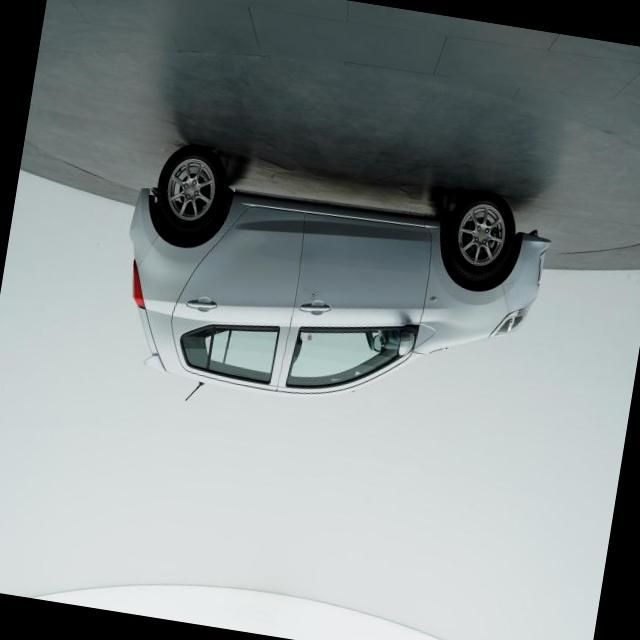PeroduaAxia: (102, 135, 558, 454)
